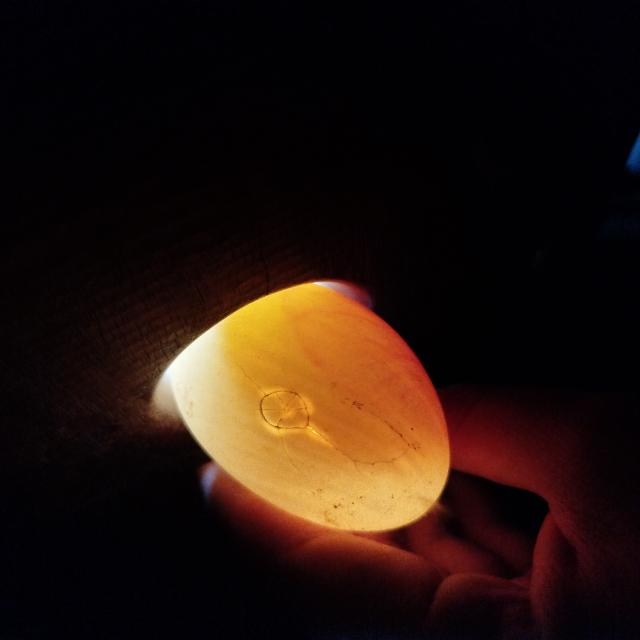Rachadura: (237, 365, 413, 475)
